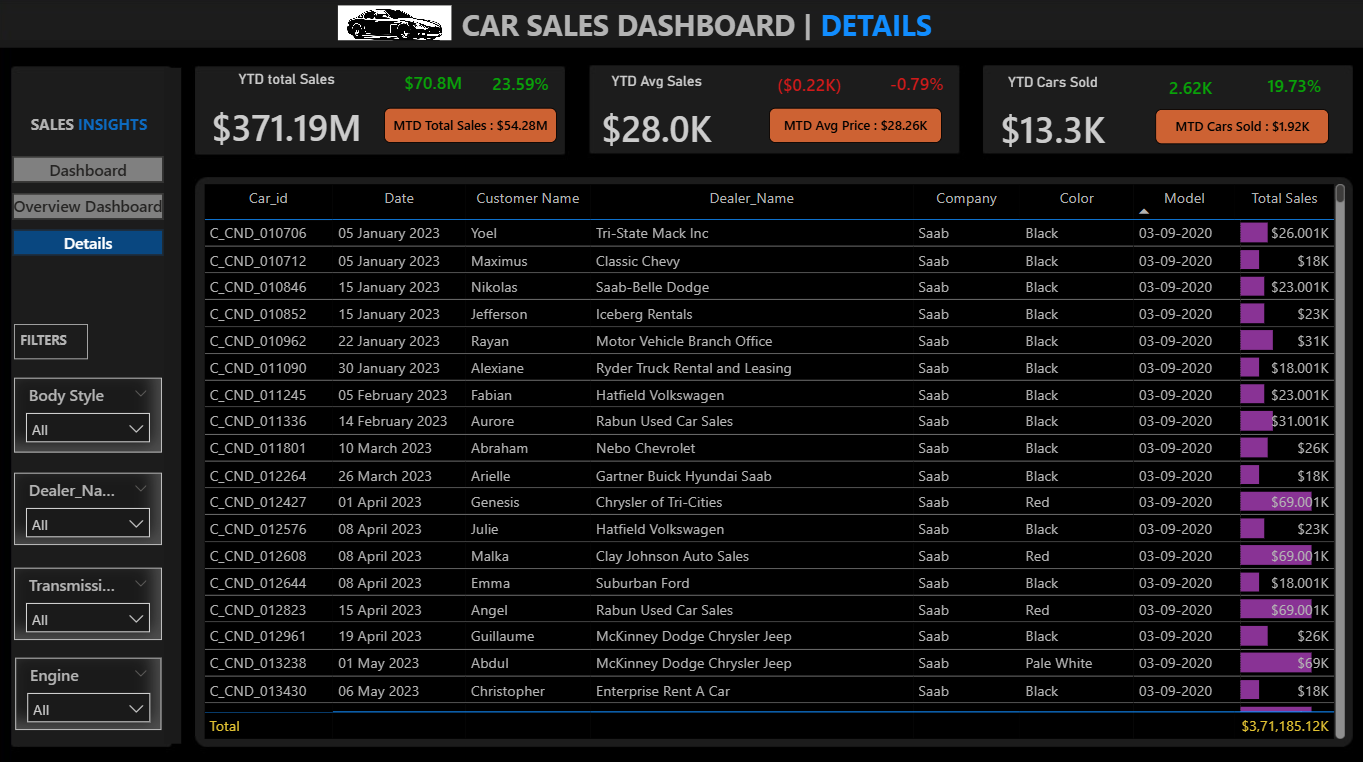

What the dashboard file says about the page in this screenshot:
{"tool":"powerbi","page":{"name":"Details","canvas":[1280,720],"ordinal":2},"visuals":[{"type":"card","title":"YTD total Sales","fields":{"Values":["car_data.YTD Total Sales"]},"box":[146.5,67.4,251.2,89.5],"z":0},{"type":"card","fields":{"Values":["car_data.Sales Difference"]},"box":[357,64,103.5,31.4],"z":1000},{"type":"card","fields":{"Values":["car_data.YoY Sales Growth"]},"box":[438.4,65.1,103.5,31.4],"z":2000},{"type":"card","title":"MTD Total Sales","fields":{"Values":["car_data.MTD KPI"]},"box":[362.8,101.2,160.5,32.6],"z":3000},{"type":"card","title":"YTD Avg Sales","fields":{"Values":["car_data.YTD Avg Price"]},"box":[490.7,68.6,251.2,89.5],"z":4000},{"type":"card","fields":{"Values":["car_data.Avg Price Diff"]},"box":[707,66.3,103.5,31.4],"z":5000},{"type":"card","fields":{"Values":["car_data.YoY Avg Price Growth"]},"box":[807,65.1,103.5,31.4],"z":6000},{"type":"card","title":"MTD Total Sales","fields":{"Values":["car_data.MTD Avg Price KPI"]},"box":[720.9,101.2,160.5,32.6],"z":7000},{"type":"card","title":"YTD Cars Sold","fields":{"Values":["car_data.YTD Cars Sales"]},"box":[859.3,69.8,251.2,89.5],"z":8000},{"type":"card","fields":{"Values":["car_data.CArs Sold Diff"]},"box":[1061.6,68.6,103.5,31.4],"z":9000},{"type":"card","fields":{"Values":["car_data.YoY Car Sold Growth"]},"box":[1158.1,66.3,103.5,32.6],"z":10000},{"type":"card","title":"MTD Total Sales","fields":{"Values":["car_data.MTD Cars Sold KPI"]},"box":[1080.2,102.3,161.6,32.6],"z":11000},{"type":"textbox","box":[427.9,0,530.2,48.8],"z":12000},{"type":"slicer","fields":{"Values":["car_data.Body Style"]},"box":[16.3,352.3,141.9,67.4],"z":13000},{"type":"slicer","fields":{"Values":["car_data.Dealer_Name"]},"box":[16.3,440.7,141.9,67.4],"z":14000},{"type":"slicer","fields":{"Values":["car_data.Transmission"]},"box":[16.3,529.1,141.9,67.4],"z":15000},{"type":"slicer","fields":{"Values":["car_data.Engine"]},"box":[16.3,612.8,141.9,67.4],"z":16000},{"type":"textbox","box":[16.3,308.1,70.9,31.4],"z":17000},{"type":"tableEx","fields":{"Values":["car_data.Car_id","car_data.Date","car_data.Customer Name","car_data.Dealer_Name","car_data.Company","car_data.Color","car_data.Model","car_data.Price ($)"]},"box":[189.5,167.4,1072.1,525.6],"z":18000},{"type":"textbox","box":[16.3,75.6,150,32.6],"z":19000},{"type":"pageNavigator","box":[16.3,129.1,141.9,94.2],"z":20000},{"type":"shape","box":[166.3,66.3,12.8,626.7],"z":21000}]}

Visuals, with their boxes on the page's 1280x720 design canvas (x1, y1, x2, y2). These are canvas units, not pixel positions in the 1363x762 screenshot, which may show the page scaled, cropped or inside an application window:
"YTD total Sales" card: {"x1": 146, "y1": 67, "x2": 398, "y2": 157}
card - car_data.Sales Difference: {"x1": 357, "y1": 64, "x2": 460, "y2": 95}
card - car_data.YoY Sales Growth: {"x1": 438, "y1": 65, "x2": 542, "y2": 96}
"MTD Total Sales" card: {"x1": 363, "y1": 101, "x2": 523, "y2": 134}
"YTD Avg Sales" card: {"x1": 491, "y1": 69, "x2": 742, "y2": 158}
card - car_data.Avg Price Diff: {"x1": 707, "y1": 66, "x2": 810, "y2": 98}
card - car_data.YoY Avg Price Growth: {"x1": 807, "y1": 65, "x2": 910, "y2": 96}
"MTD Total Sales" card: {"x1": 721, "y1": 101, "x2": 881, "y2": 134}
"YTD Cars Sold" card: {"x1": 859, "y1": 70, "x2": 1110, "y2": 159}
card - car_data.CArs Sold Diff: {"x1": 1062, "y1": 69, "x2": 1165, "y2": 100}
card - car_data.YoY Car Sold Growth: {"x1": 1158, "y1": 66, "x2": 1262, "y2": 99}
"MTD Total Sales" card: {"x1": 1080, "y1": 102, "x2": 1242, "y2": 135}
textbox: {"x1": 428, "y1": 0, "x2": 958, "y2": 49}
slicer - car_data.Body Style: {"x1": 16, "y1": 352, "x2": 158, "y2": 420}
slicer - car_data.Dealer_Name: {"x1": 16, "y1": 441, "x2": 158, "y2": 508}
slicer - car_data.Transmission: {"x1": 16, "y1": 529, "x2": 158, "y2": 596}
slicer - car_data.Engine: {"x1": 16, "y1": 613, "x2": 158, "y2": 680}
textbox: {"x1": 16, "y1": 308, "x2": 87, "y2": 340}
tableEx - car_data.Car_id x car_data.Date: {"x1": 190, "y1": 167, "x2": 1262, "y2": 693}
textbox: {"x1": 16, "y1": 76, "x2": 166, "y2": 108}
pageNavigator: {"x1": 16, "y1": 129, "x2": 158, "y2": 223}
shape: {"x1": 166, "y1": 66, "x2": 179, "y2": 693}
